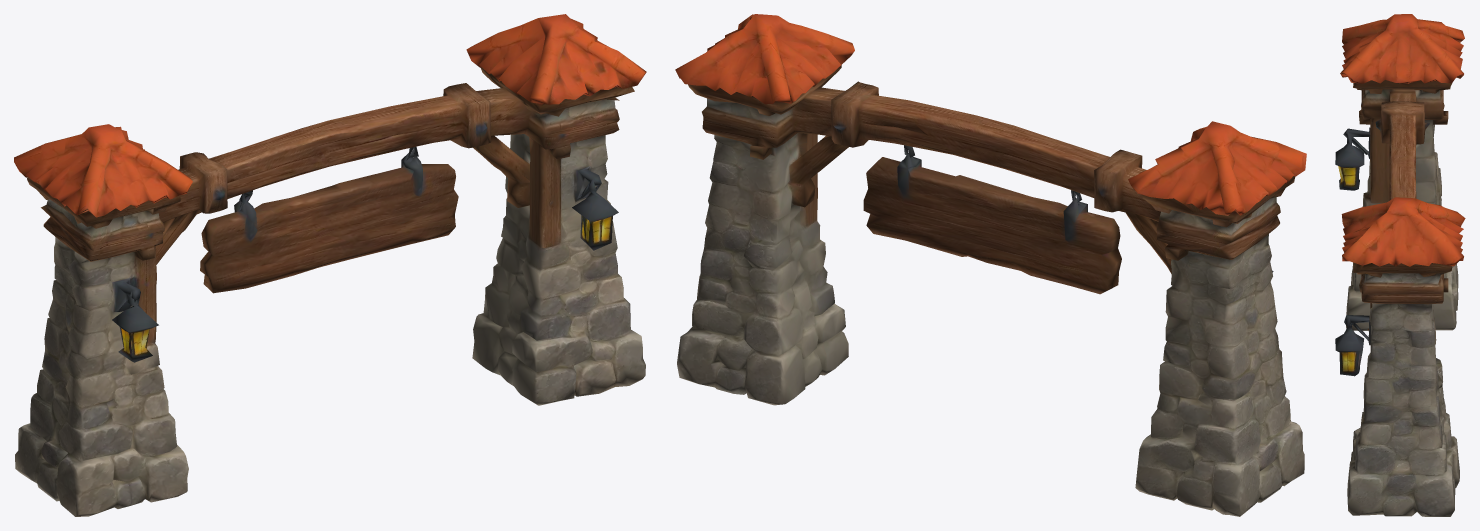
The model's file is kemer-karadere.glb.
The picture shows the model from 3 angles, left to right: view 1: azimuth 30°, elevation 25°; view 2: azimuth 150°, elevation 25°; view 3: azimuth 270°, elevation 25°; orthographic projection. The views are drawn at different scales.
Parts seen in each view (by area): view 1: tripo_node_2b9f7388-9e49-4000-936b-0e22774179ff; view 2: tripo_node_2b9f7388-9e49-4000-936b-0e22774179ff; view 3: tripo_node_2b9f7388-9e49-4000-936b-0e22774179ff.
Part boxes in pixels (x1,y1,x2,y2): tripo_node_2b9f7388-9e49-4000-936b-0e22774179ff: [14, 14, 646, 516]; tripo_node_2b9f7388-9e49-4000-936b-0e22774179ff: [675, 14, 1306, 516]; tripo_node_2b9f7388-9e49-4000-936b-0e22774179ff: [1335, 14, 1465, 516].
Bounding box in the file's own units: 0.9802 × 0.5835 × 0.2336.
Materials: 1 (1 with a texture image).
